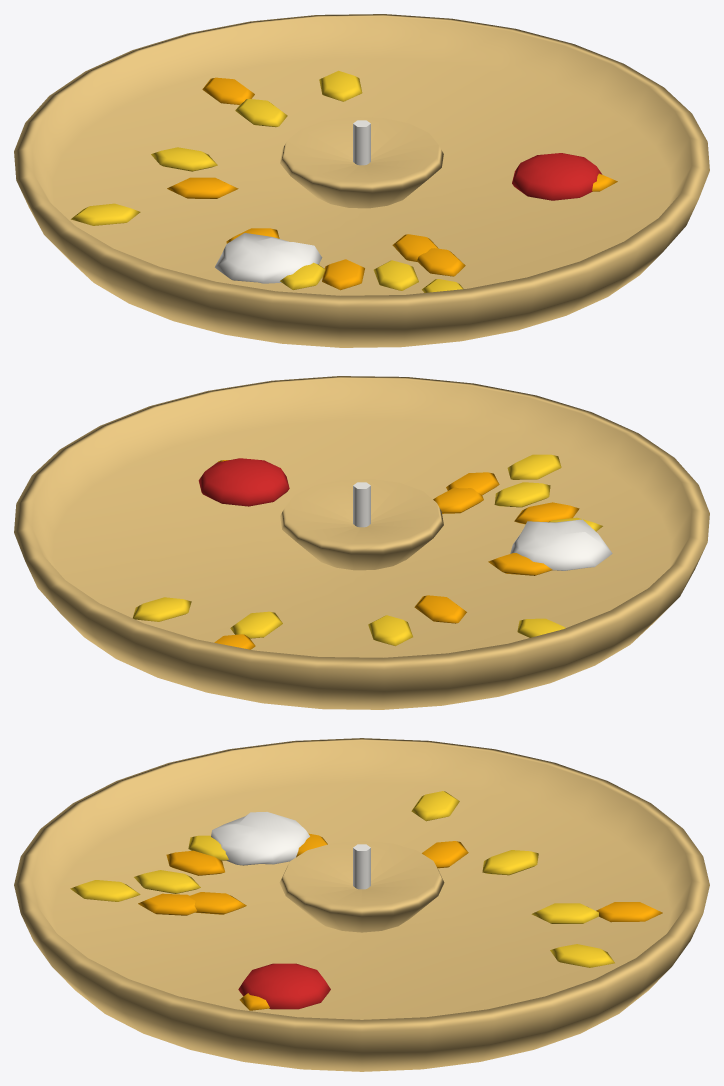
Rendered from aarti_thali.glb.
3 renders of one model, top to bottom at view 1: azimuth 30°, elevation 25°; view 2: azimuth 150°, elevation 25°; view 3: azimuth 270°, elevation 25°, orthographic.
Visible parts, largest first — view 1: aarti_thali; view 2: aarti_thali; view 3: aarti_thali.
Boxes of the visible parts, bbox=[...] form: aarti_thali: bbox=[14, 14, 709, 347]; aarti_thali: bbox=[14, 376, 709, 709]; aarti_thali: bbox=[14, 738, 709, 1071].
Bounding box in the file's own units: 0.27 × 0.04 × 0.27.
